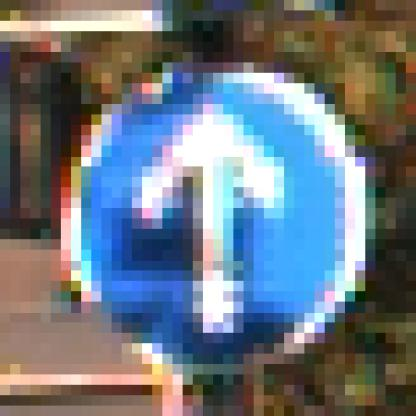AheadOnly: (62, 64, 356, 355)
